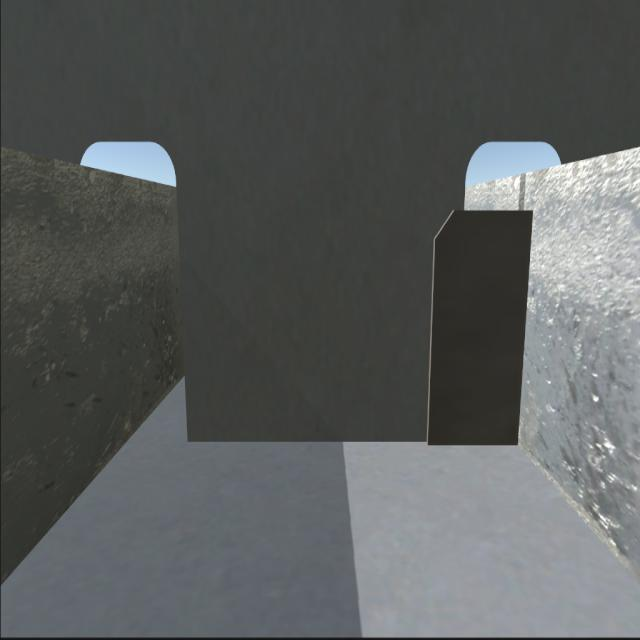fillet_yong_jeop_jang: (183, 430, 520, 452)
longi_yong_jeop_jang: (518, 214, 532, 442)
plate_CP01: (430, 200, 525, 449)
